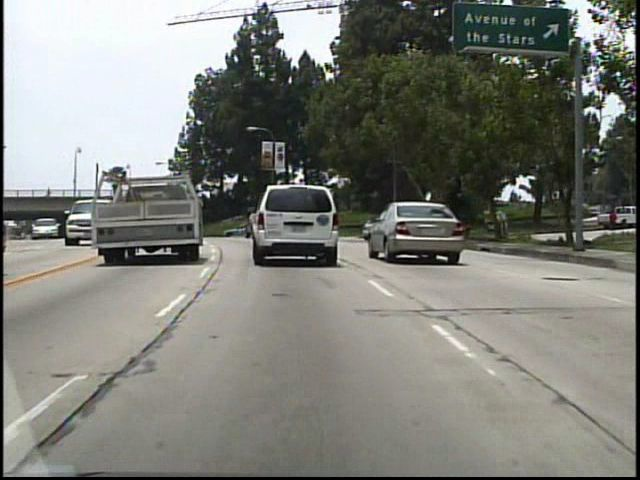person: (42, 183, 53, 203)
